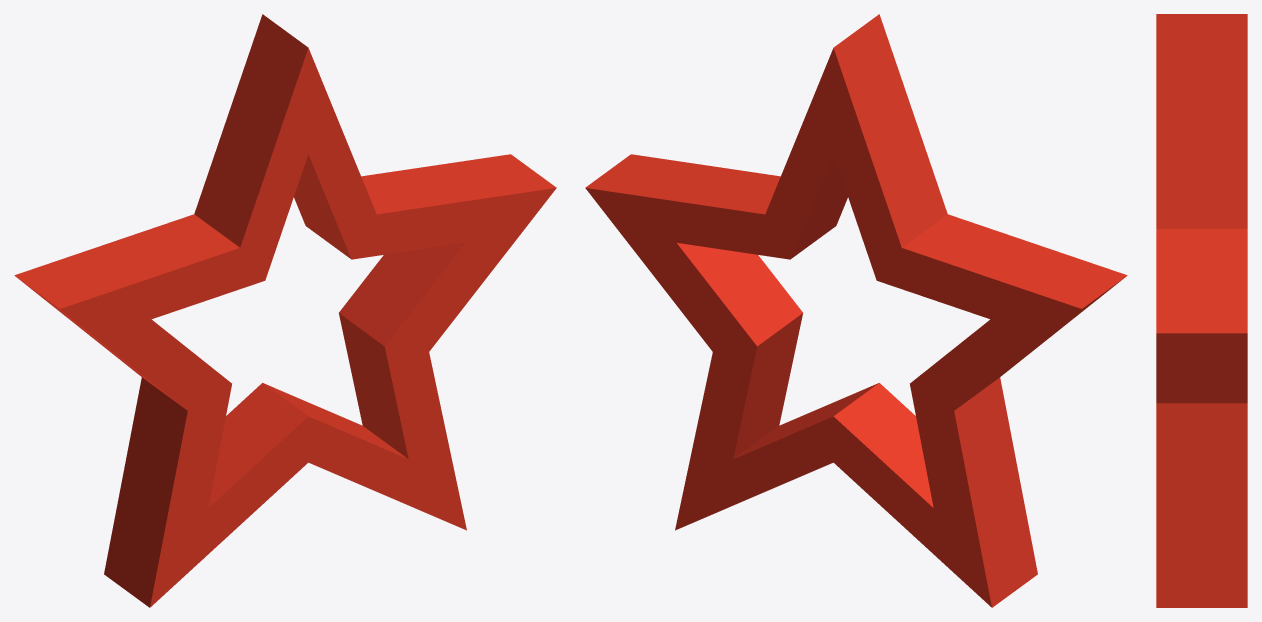
The model's file is Icon_Star_06.fbx.
3 renders of one model, left to right at view 1: azimuth 30°, elevation 25°; view 2: azimuth 150°, elevation 25°; view 3: azimuth 270°, elevation 25°, orthographic.
Visible parts, largest first — view 1: Icon_Star_06; view 2: Icon_Star_06; view 3: Icon_Star_06.
Boxes of the visible parts, x1=… form: Icon_Star_06: x1=14, y1=14, x2=556, y2=607; Icon_Star_06: x1=585, y1=14, x2=1127, y2=607; Icon_Star_06: x1=1156, y1=14, x2=1247, y2=607.
Bounding box in the file's own units: 75.27 × 75.53 × 12.06.
